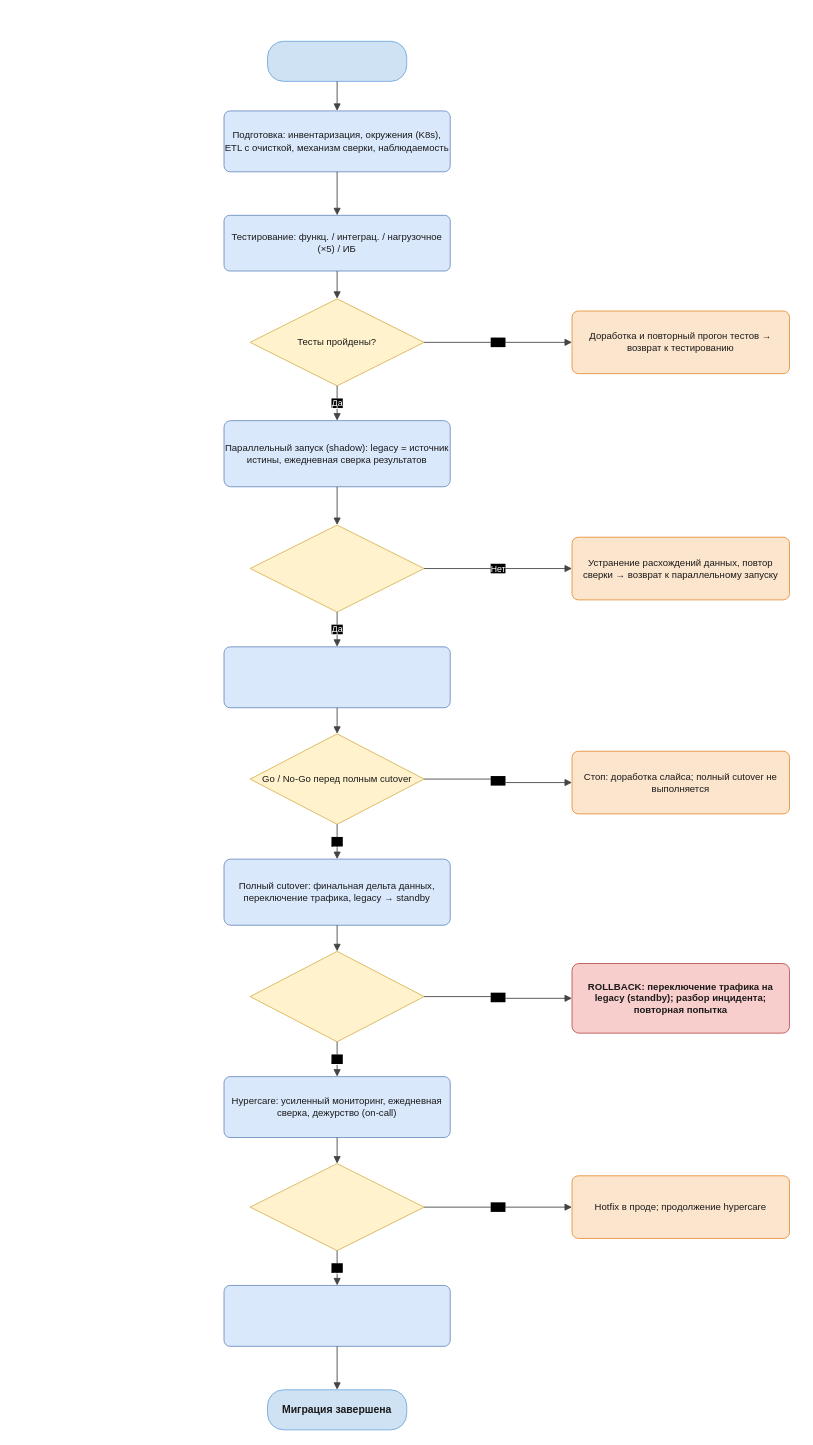
Image size: 813x1445. Some labels were removed from this diagram. Each missing label, with the box of its shape:
Cutover успешен? (smoke + перф): (249, 950, 424, 1042)
Декомиссия легаси: архив (шифр., РФ), вывод 1С и файлов, документация: (223, 1285, 450, 1346)
Постепенный перевод нагрузки: canary по процессам/филиалам, feature flags: (223, 646, 450, 708)
Сверка чистая N дней?: (249, 524, 424, 612)
Стабильно?: (249, 1163, 424, 1251)
Старт миграции: (267, 40, 407, 81)
